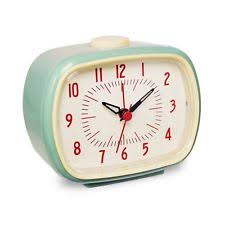alarm_clock: (23, 27, 200, 186), (23, 32, 200, 186)
